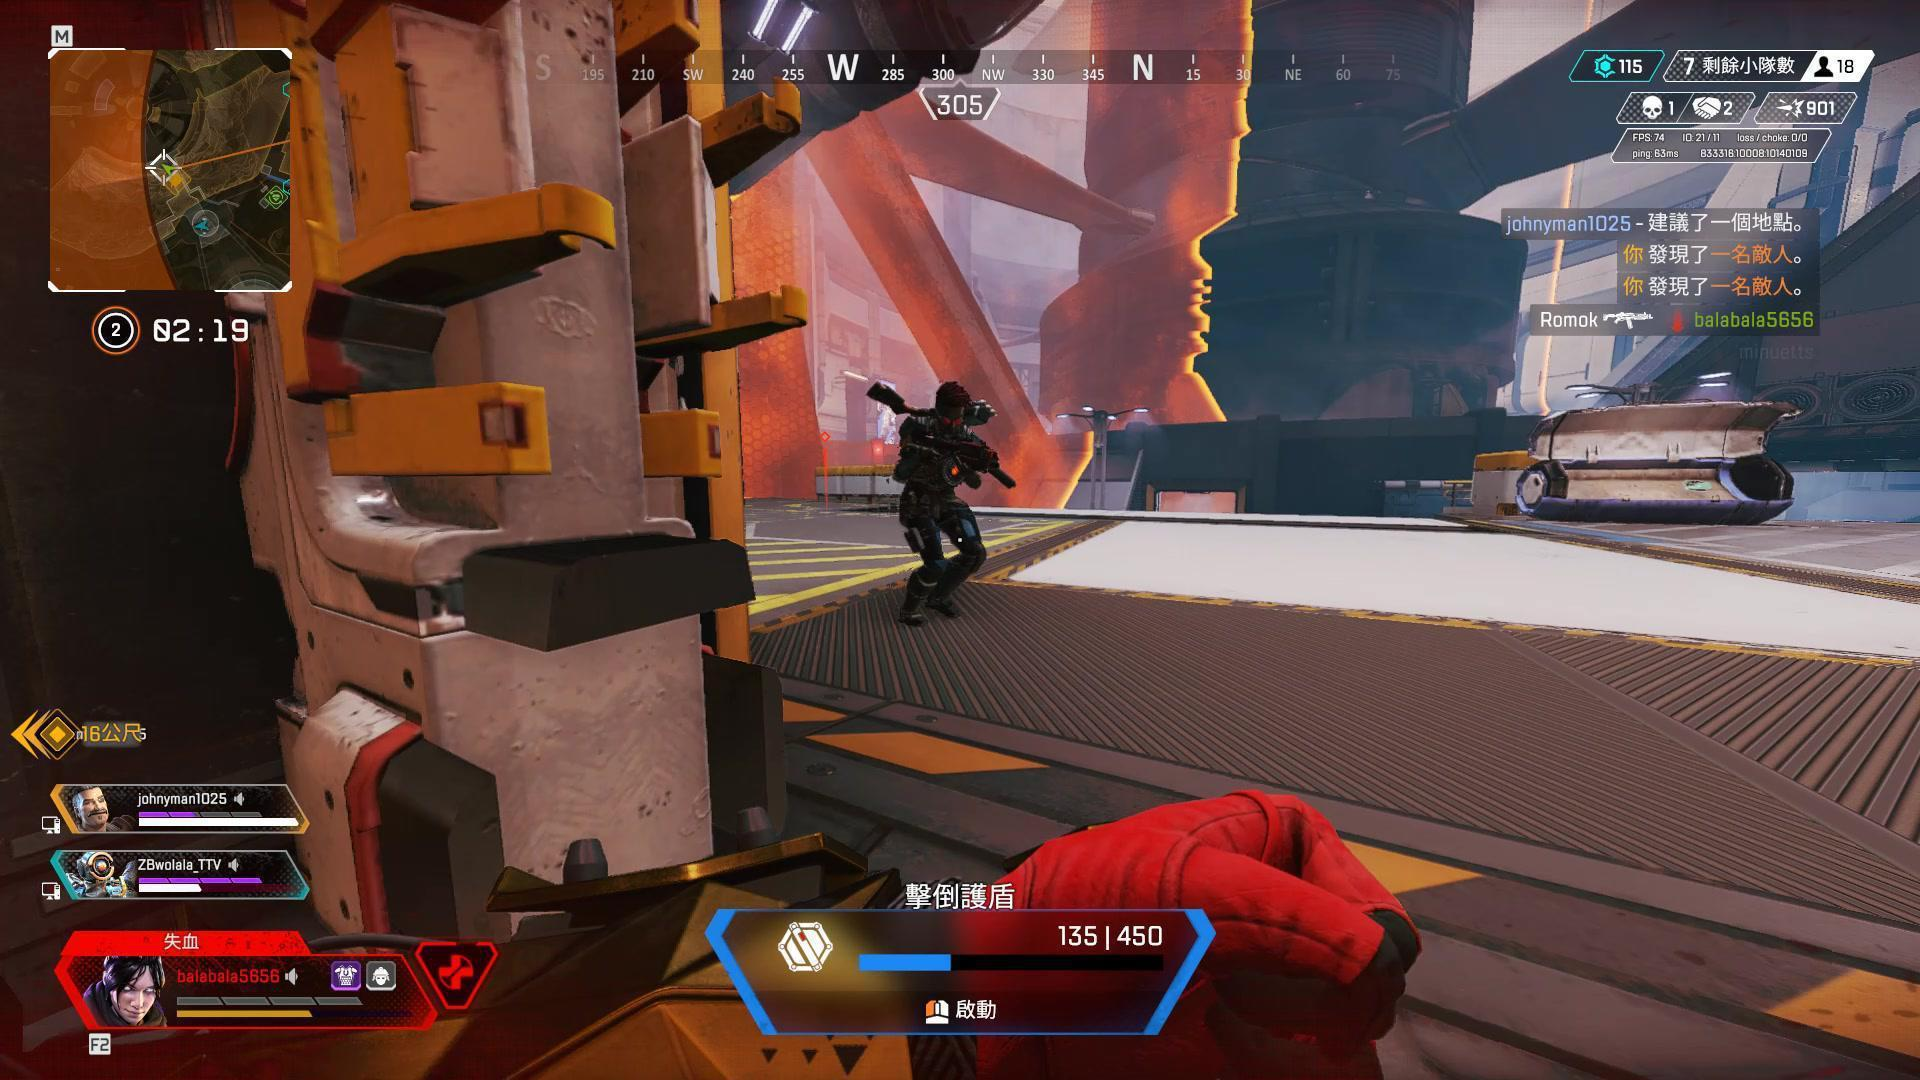avatar: (889, 381, 1002, 632)
